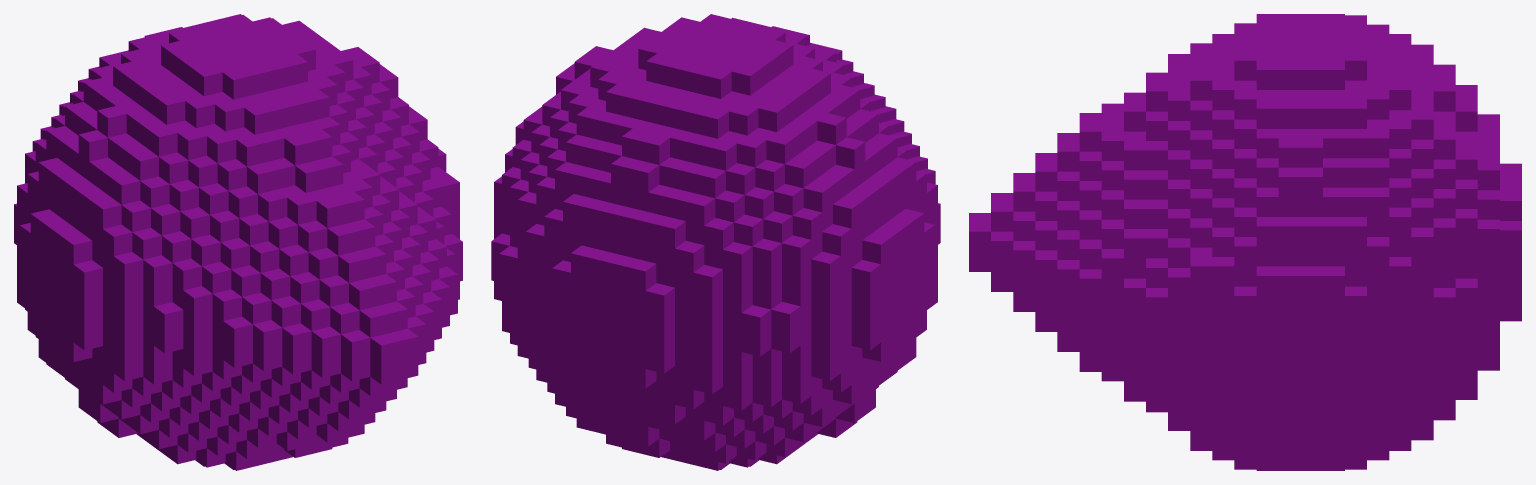
The model's file is snariad-0.obj.
3 views of the same model, side by side, from view 1: azimuth 30°, elevation 25°; view 2: azimuth 150°, elevation 25°; view 3: azimuth 270°, elevation 25° (orthographic). The views are drawn at different scales.
Size of the model in its own units: 2 by 2 by 2.5.
1 material, 1 textured.
